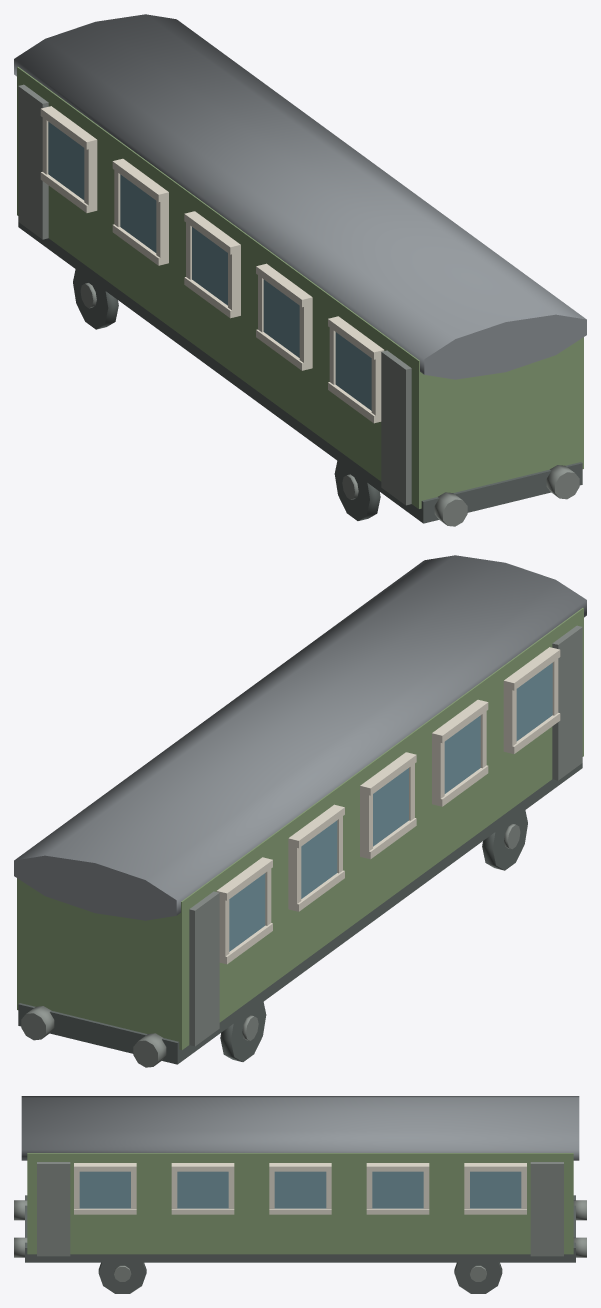
Rendered from rhine-coach_lod1.glb.
3 views of the same model, one above another, from view 1: azimuth 30°, elevation 25°; view 2: azimuth 150°, elevation 25°; view 3: azimuth 270°, elevation 25° (orthographic). The views are drawn at different scales.
Parts seen in each view (by area): view 1: RF_CoachRoof, RF_CoachBody, RF_RoofLowerMask, RF_Chassis, RF_CarDoor.001, RF_CarDoor.002, RF_Window.002, RF_Window.001, RF_Window.004, RF_Window.005, RF_Window.003, RF_Wheel.001 (+13 smaller); view 2: RF_CoachRoof, RF_CoachBody, RF_RoofLowerMask, RF_Chassis, RF_CarDoor.002, RF_CarDoor.001, RF_Window.004, RF_Window.005, RF_Window.001, RF_Window.002, RF_Window.003, RF_Wheel.003 (+13 smaller); view 3: RF_CoachBody, RF_CoachRoof, RF_Chassis, RF_CarDoor.003, RF_CarDoor, RF_Window.008, RF_Window.007, RF_Window.009, RF_Window.006, RF_Window, RF_Wheel.002, RF_Wheel (+11 smaller).
Boxes of the visible parts, <box> form: RF_CoachRoof: <box>14,14,586,379</box>; RF_CoachBody: <box>17,67,583,508</box>; RF_RoofLowerMask: <box>17,76,583,447</box>; RF_Chassis: <box>18,222,582,523</box>; RF_CarDoor.001: <box>381,350,411,505</box>; RF_CarDoor.002: <box>18,84,48,239</box>; RF_Window.002: <box>263,279,299,357</box>; RF_Window.001: <box>335,332,371,410</box>; RF_Window.004: <box>120,174,156,252</box>; RF_Window.005: <box>48,122,84,200</box>; RF_Window.003: <box>192,227,227,305</box>; RF_Wheel.001: <box>334,461,380,520</box>; RF_CoachRoof: <box>14,555,586,920</box>; RF_CoachBody: <box>17,608,583,1049</box>; RF_RoofLowerMask: <box>17,615,583,987</box>; RF_Chassis: <box>18,763,582,1064</box>; RF_CarDoor.002: <box>189,891,219,1046</box>; RF_CarDoor.001: <box>552,625,582,780</box>; RF_Window.004: <box>301,820,337,898</box>; RF_Window.005: <box>229,873,265,951</box>; RF_Window.001: <box>516,663,552,741</box>; RF_Window.002: <box>444,715,480,793</box>; RF_Window.003: <box>373,768,408,846</box>; RF_Wheel.003: <box>220,1002,266,1061</box>; RF_CoachBody: <box>27,1153,573,1254</box>; RF_CoachRoof: <box>21,1096,579,1160</box>; RF_Chassis: <box>25,1195,575,1262</box>; RF_CarDoor.003: <box>37,1162,70,1256</box>; RF_CarDoor: <box>530,1162,563,1256</box>; RF_Window.008: <box>274,1171,326,1208</box>; RF_Window.007: <box>177,1171,228,1208</box>; RF_Window.009: <box>372,1171,423,1208</box>; RF_Window.006: <box>79,1171,130,1208</box>; RF_Window: <box>470,1171,521,1208</box>; RF_Wheel.002: <box>98,1262,146,1293</box>; RF_Wheel: <box>454,1262,502,1293</box>.
Size of the model in its own units: 3.16 by 3.73 by 12.38.
